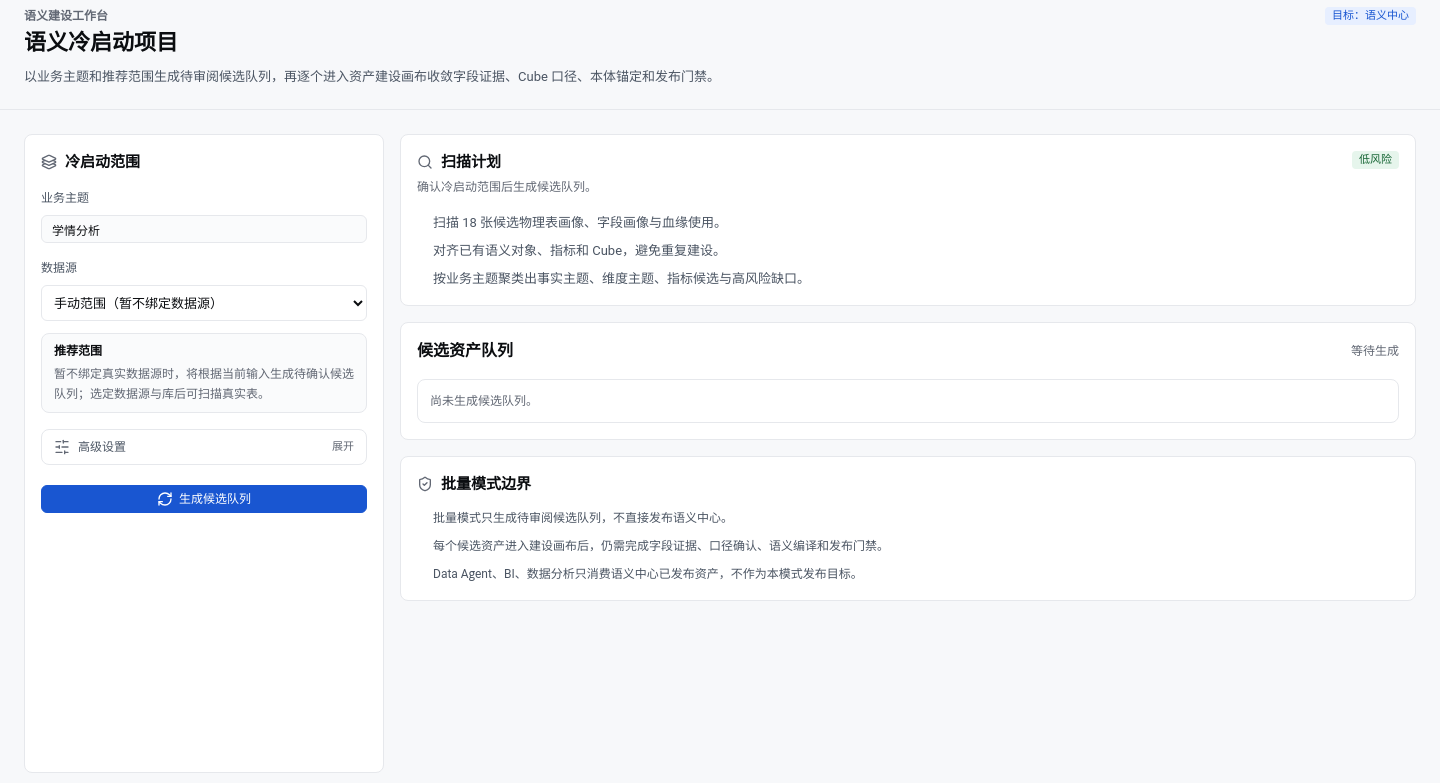
BatchModelingWorkbench › 手动选表降级使用输入源表创建 Build Project 候选队列
Expected: the field labelled "手动源表名" is not shown
Click the button "高级设置 展开" at (102, 447), box top-left (42, 430), bottom-right (366, 464)
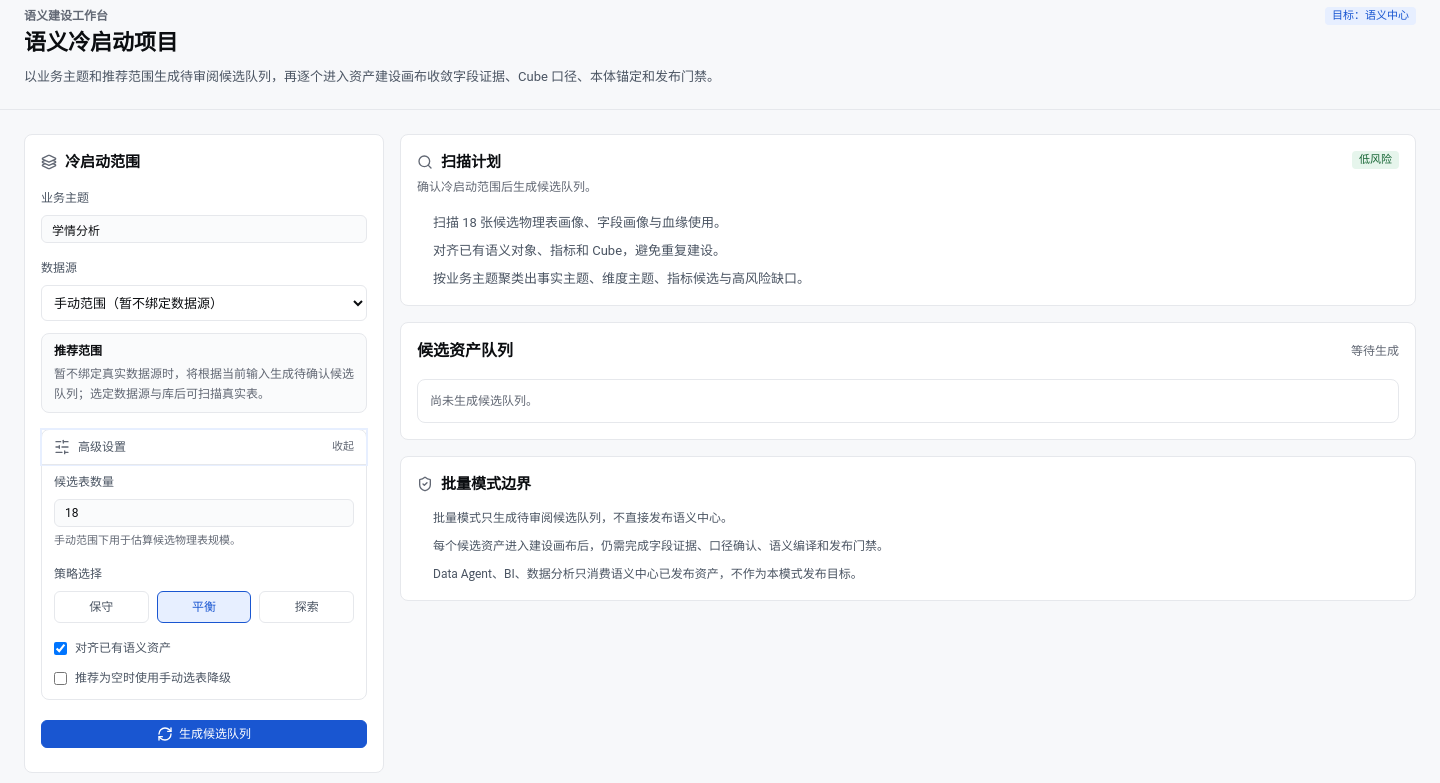
Click the checkbox named "推荐为空，使用手动选表模式" at (60, 678), box top-left (54, 672), bottom-right (67, 684)
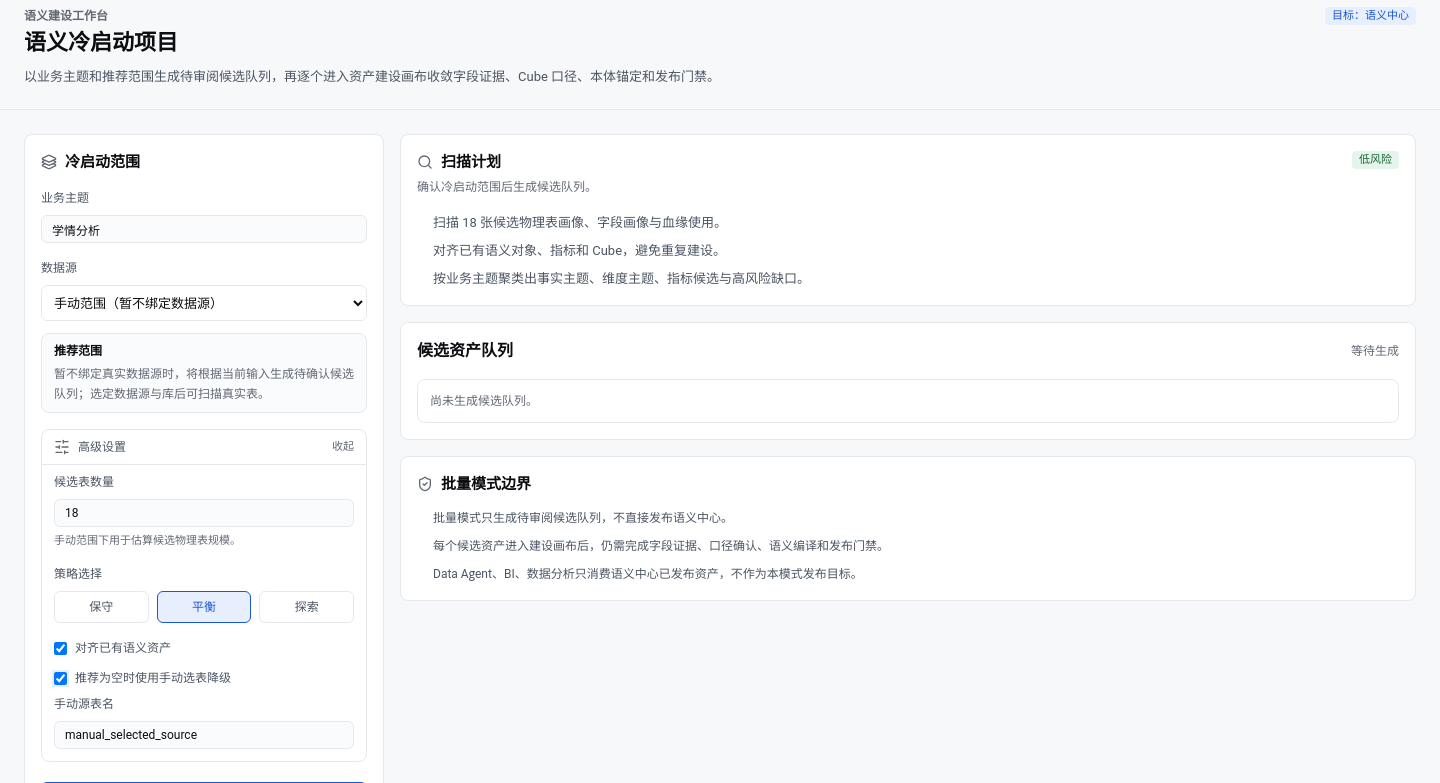
Now the field labelled "手动源表名" is enabled
Replace the text in the field labelled "手动源表名" with "ods_manual_fact_df" at (204, 735), box top-left (54, 721), bottom-right (354, 749)
(page scrolled)
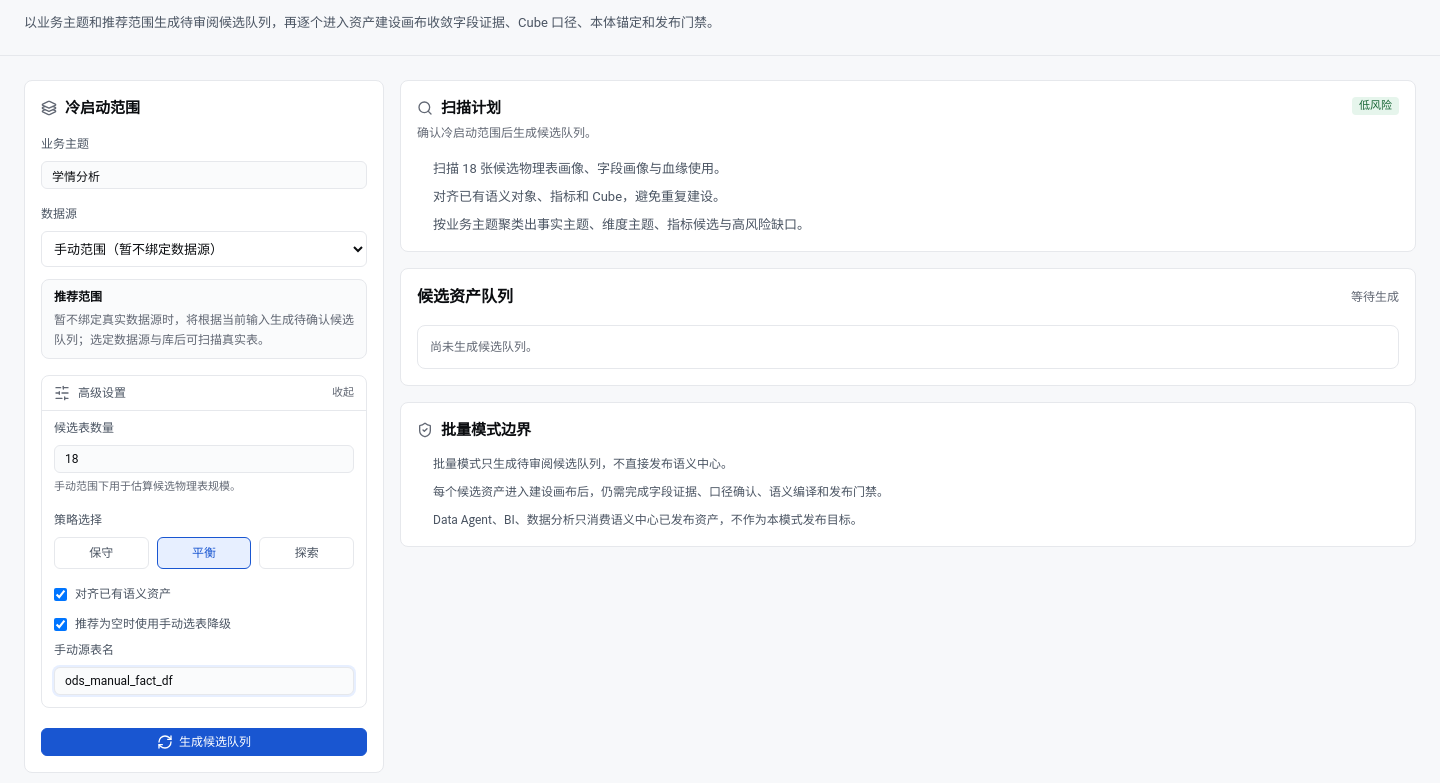
Click the button "生成候选队列" at (204, 742), box top-left (41, 728), bottom-right (367, 756)
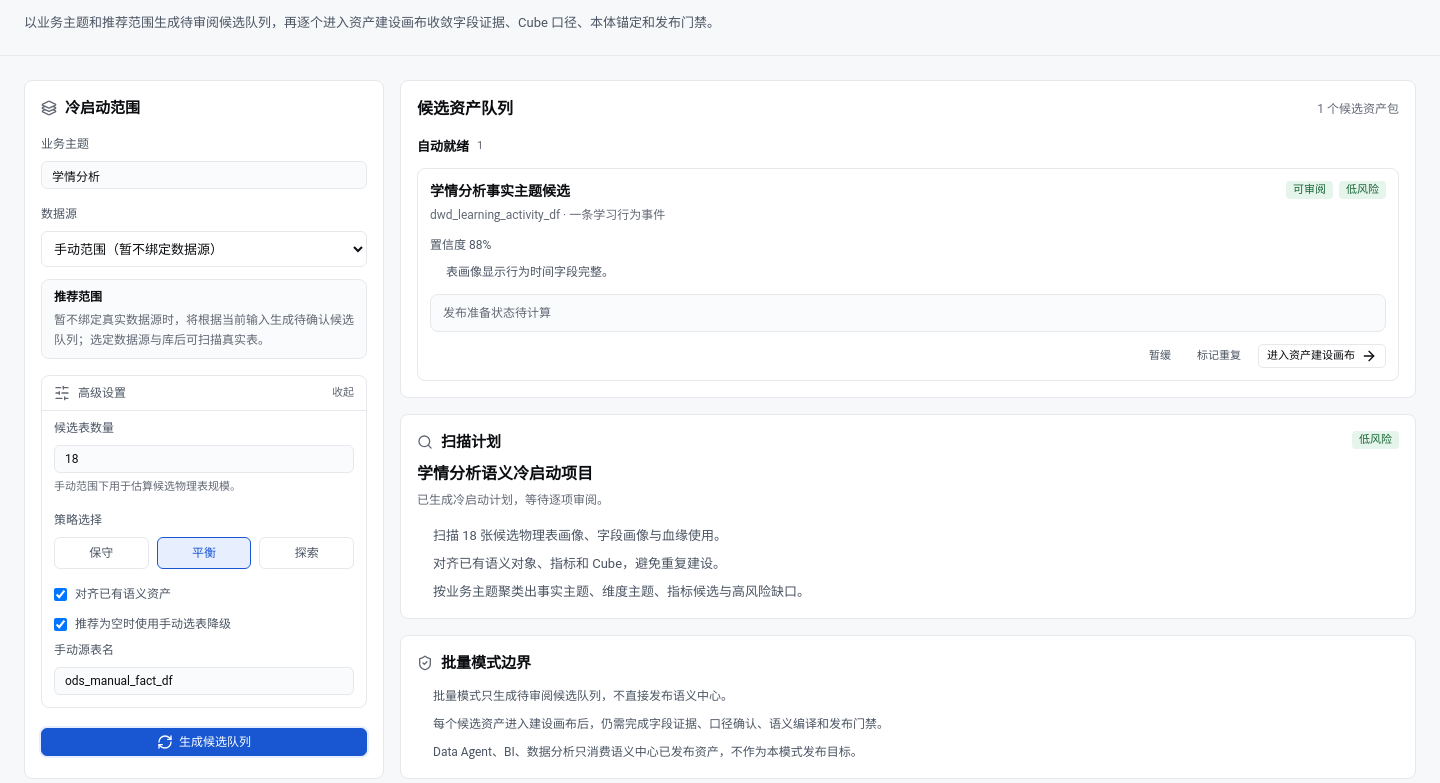
Now the heading "学情分析事实主题候选" is shown, box top-left (430, 183), bottom-right (570, 199)
